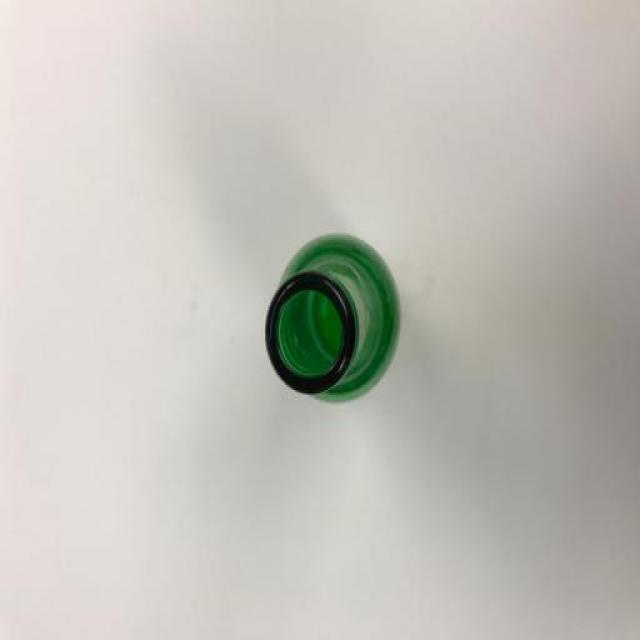Waste: (266, 237, 400, 401)
